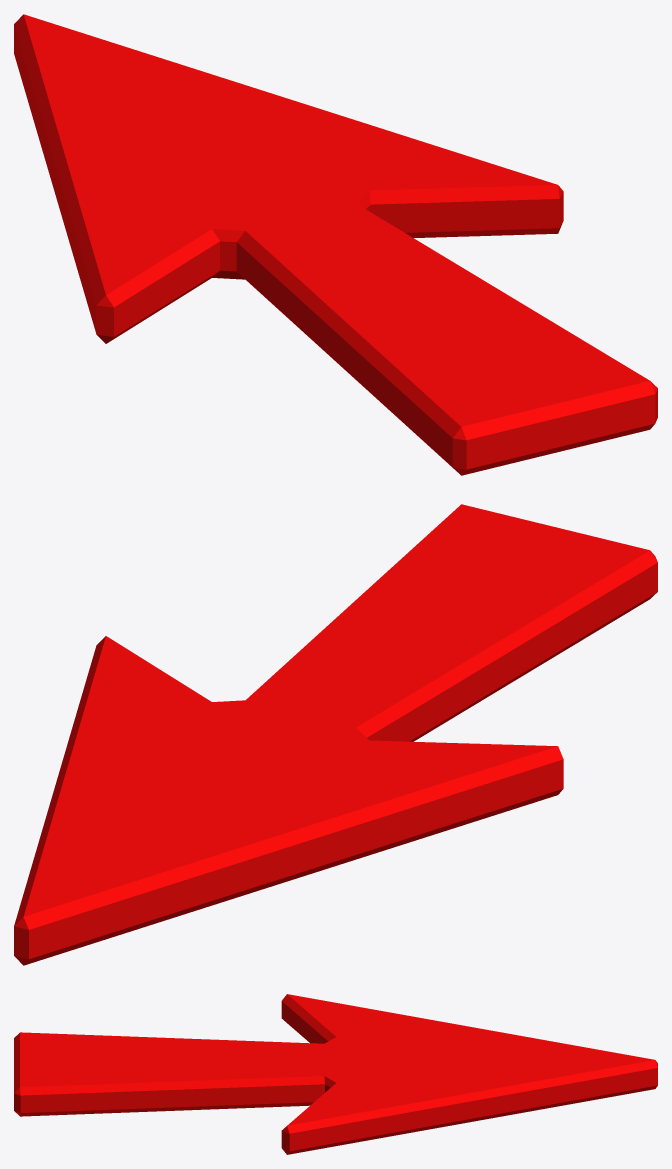
The model's file is arroweee.fbx.
3 views of the same model, one above another, from view 1: azimuth 30°, elevation 25°; view 2: azimuth 150°, elevation 25°; view 3: azimuth 270°, elevation 25° (orthographic). The views are drawn at different scales.
Parts seen in each view (by area): view 1: Object_1.005; view 2: Object_1.005; view 3: Object_1.005.
Boxes of the visible parts, <box> form: Object_1.005: <box>14,14,657,475</box>; Object_1.005: <box>14,504,657,965</box>; Object_1.005: <box>14,994,657,1154</box>.
Bounding box in the file's own units: 5 × 0.5 × 10.
